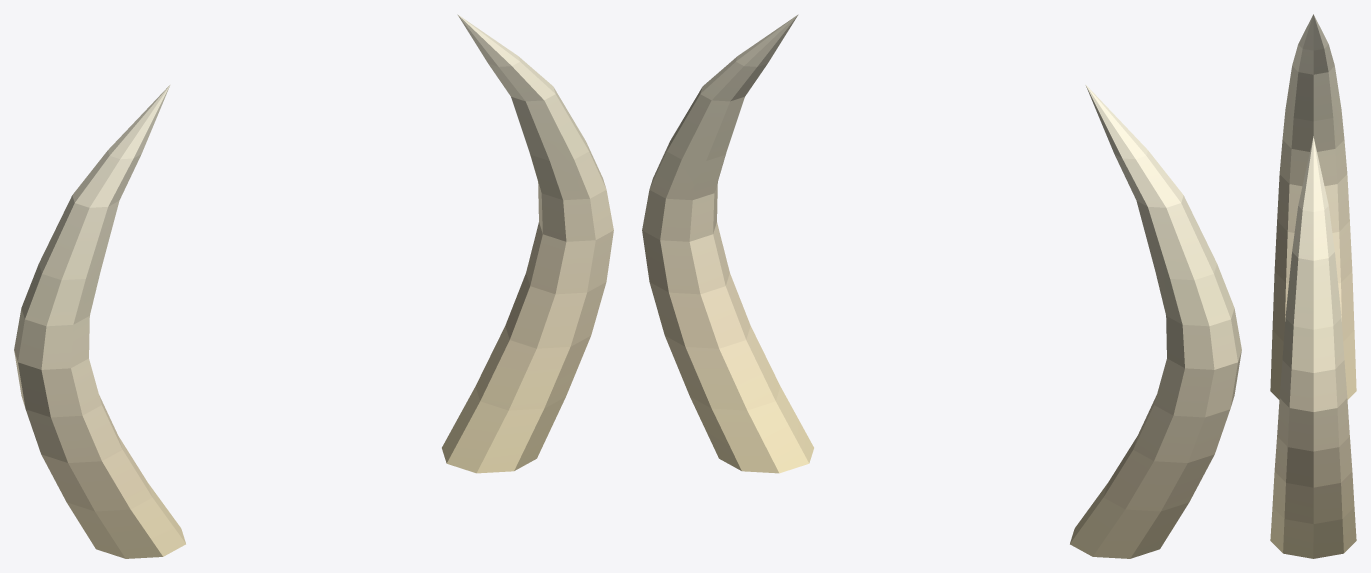
Rendered from corne_2.fbx.
3 views of the same model, side by side, from view 1: azimuth 30°, elevation 25°; view 2: azimuth 150°, elevation 25°; view 3: azimuth 270°, elevation 25° (orthographic). The views are drawn at different scales.
Visible parts, largest first — view 1: Huesos.002; view 2: Huesos.002; view 3: Huesos.002.
Part boxes in pixels (x1,y1,x2,y2): Huesos.002: (14, 14, 613, 558); Huesos.002: (642, 14, 1241, 558); Huesos.002: (1270, 14, 1356, 558).
Size of the model in its own units: 175 by 126 by 25.25.
